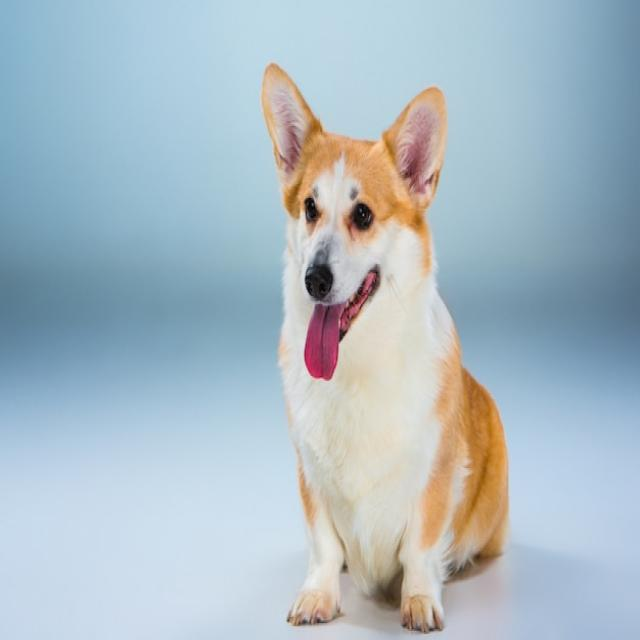Dog: (261, 62, 507, 636)
